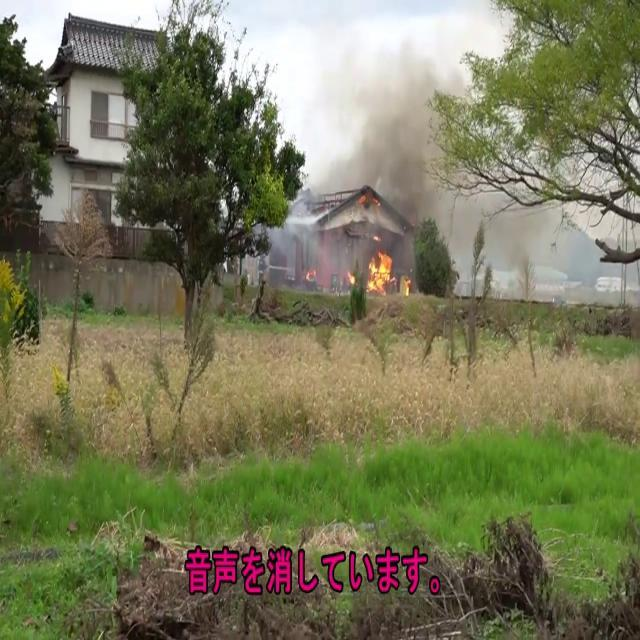Fire: (364, 241, 398, 295)
Smoke: (296, 14, 462, 228)
